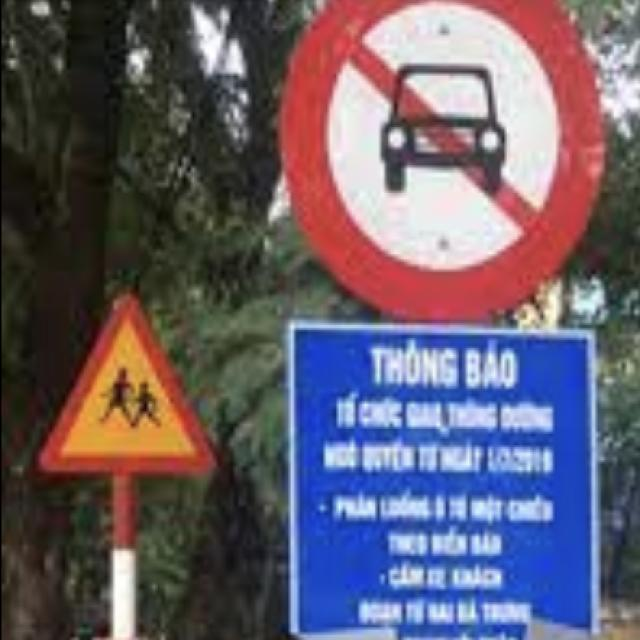103a-cam-oto: (277, 1, 605, 319)
225-chu-y-tre-em: (36, 285, 222, 475)
